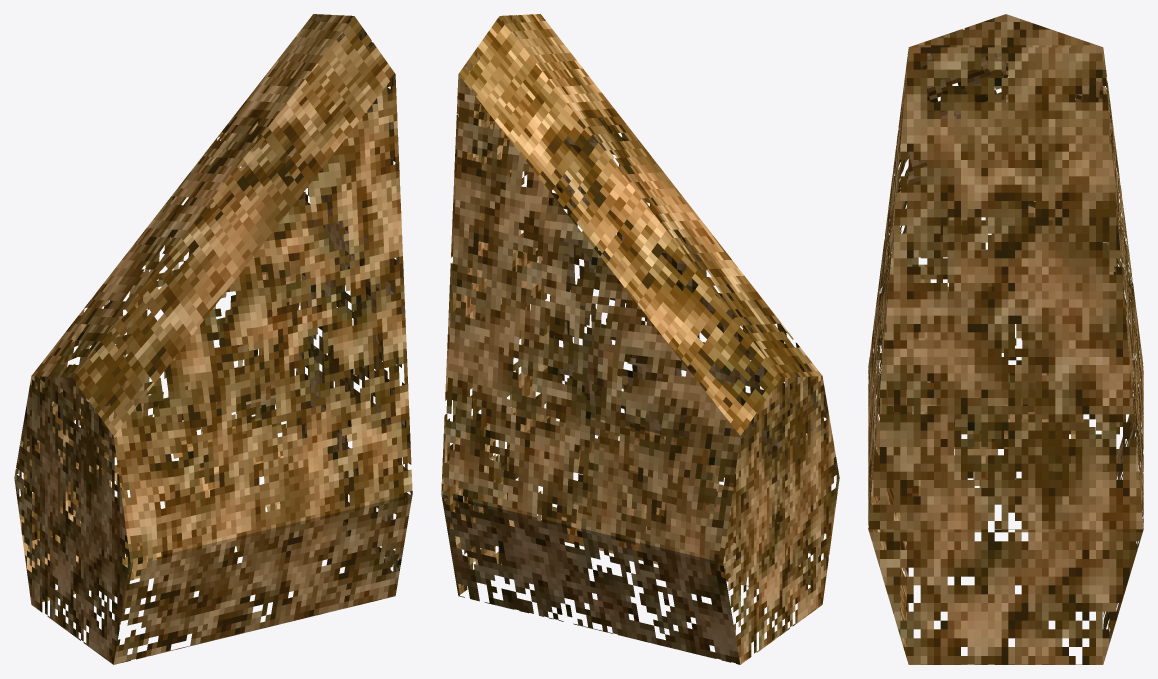
Rendered from bush_connector_straight_half_autumn.glb.
3 renders of one model, left to right at view 1: azimuth 30°, elevation 25°; view 2: azimuth 150°, elevation 25°; view 3: azimuth 270°, elevation 25°, orthographic. The views are drawn at different scales.
Visible parts, largest first — view 1: bush_connector_straight_half_autumn; view 2: bush_connector_straight_half_autumn; view 3: bush_connector_straight_half_autumn.
Boxes of the visible parts, bbox=[...] form: bush_connector_straight_half_autumn: bbox=[14, 14, 412, 664]; bush_connector_straight_half_autumn: bbox=[441, 14, 839, 664]; bush_connector_straight_half_autumn: bbox=[868, 14, 1143, 664].
Size of the model in its own units: 1.01 by 1.88 by 0.7191.
Materials: 1 (1 with a texture image).
